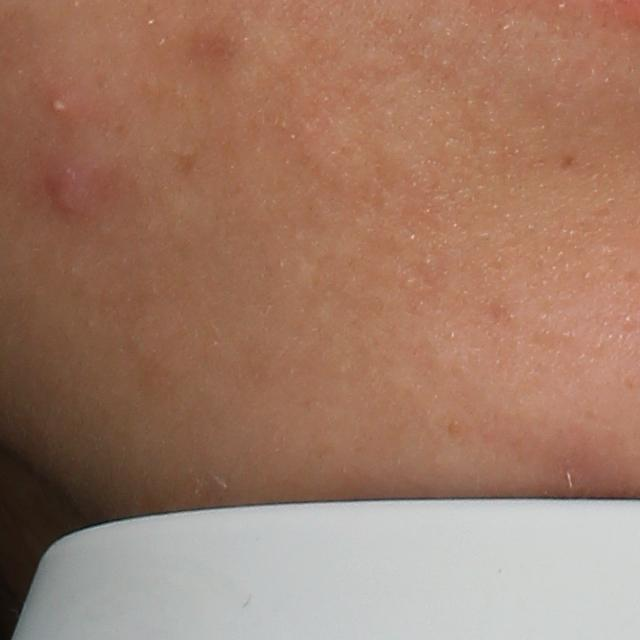papule: (45, 166, 91, 217)
pustule: (43, 89, 78, 121)
